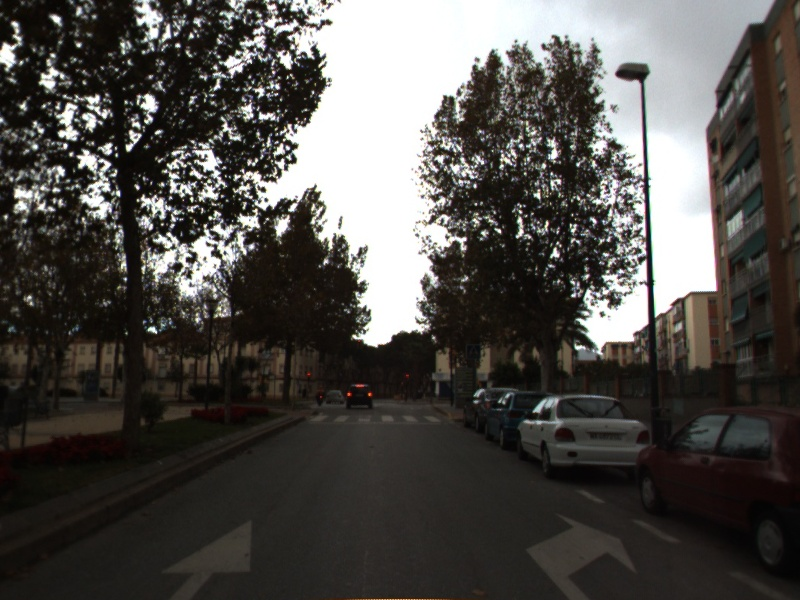RIGHT: (523, 509, 642, 600)
STRAIGHT: (156, 513, 258, 600)
